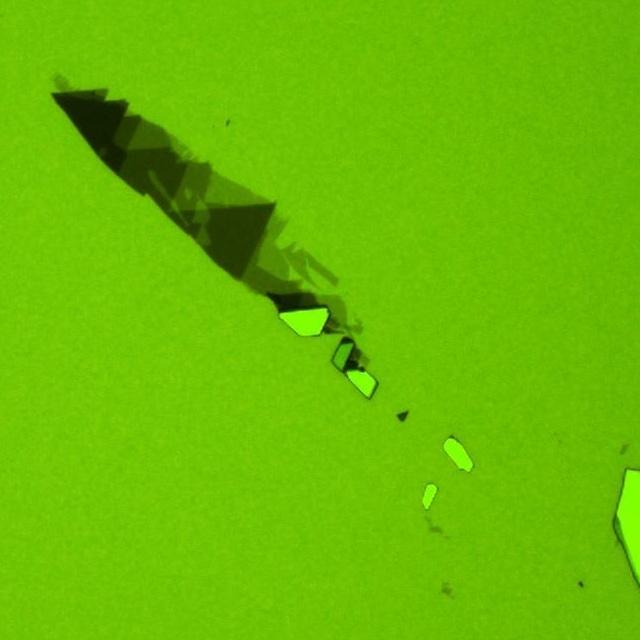monolayer-eWW4: (202, 167, 270, 208), (260, 203, 290, 280), (291, 248, 338, 289), (314, 292, 349, 326)
